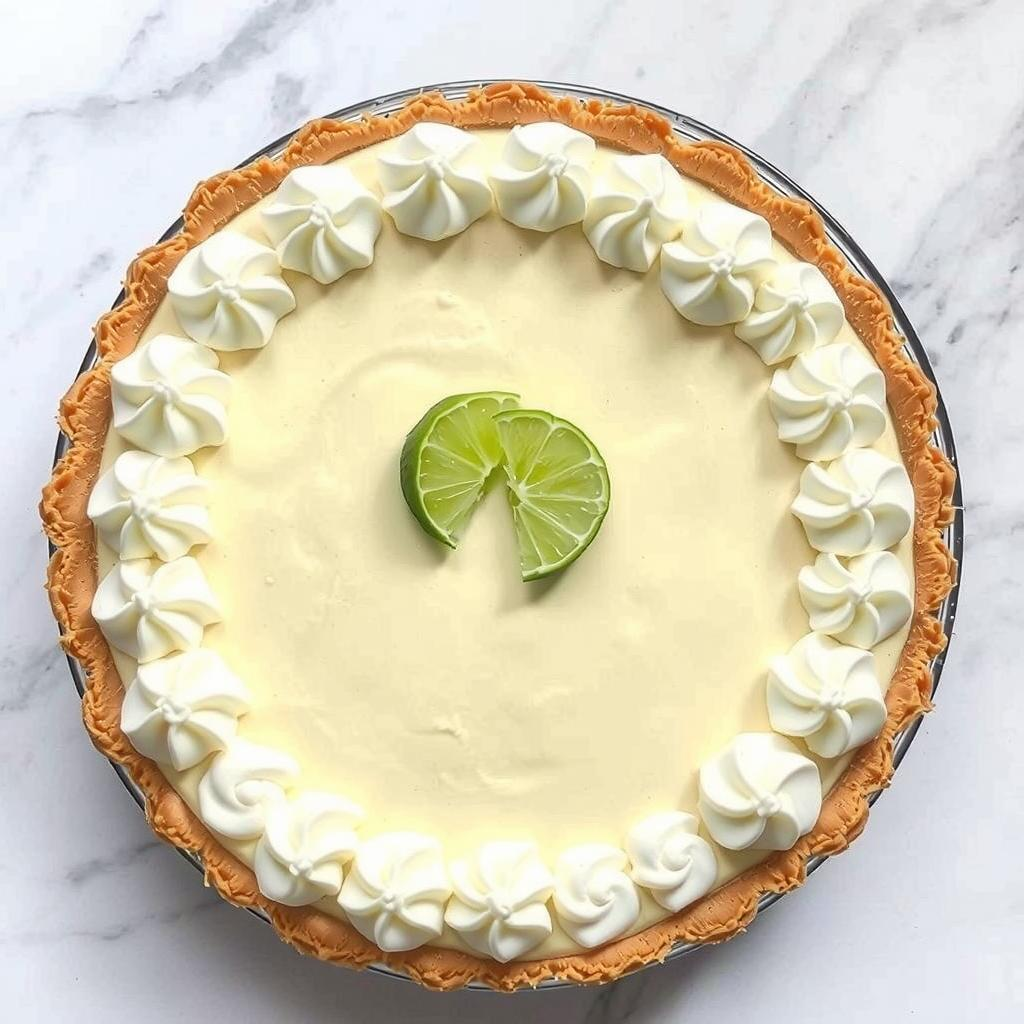pie: (33, 79, 964, 996)
